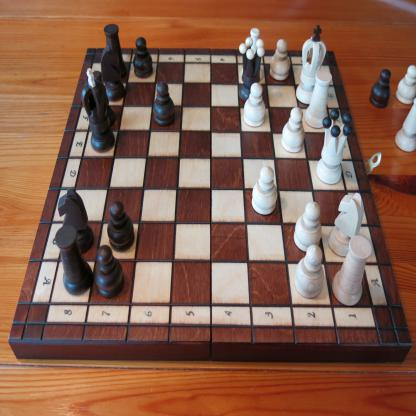black-bishop: (91, 71, 116, 128)
black-king: (81, 67, 115, 154)
black-knight: (57, 188, 94, 254), (101, 45, 125, 104)
black-pawn: (95, 244, 124, 300), (107, 200, 135, 254), (152, 82, 175, 128), (368, 69, 392, 111), (132, 37, 152, 80)
black-queen: (238, 37, 265, 103)
black-rook: (54, 224, 94, 296), (104, 24, 128, 79)
white-bishop: (393, 99, 416, 154), (240, 28, 262, 81)
white-king: (295, 24, 327, 106)
white-knight: (328, 192, 366, 258)
white-pawn: (294, 243, 324, 299), (293, 201, 322, 252), (251, 165, 278, 216), (281, 107, 305, 154), (243, 82, 266, 128), (269, 38, 290, 81), (395, 66, 415, 107)
white-queen: (316, 108, 352, 185)
white-rook: (331, 234, 372, 307), (303, 70, 332, 130)
